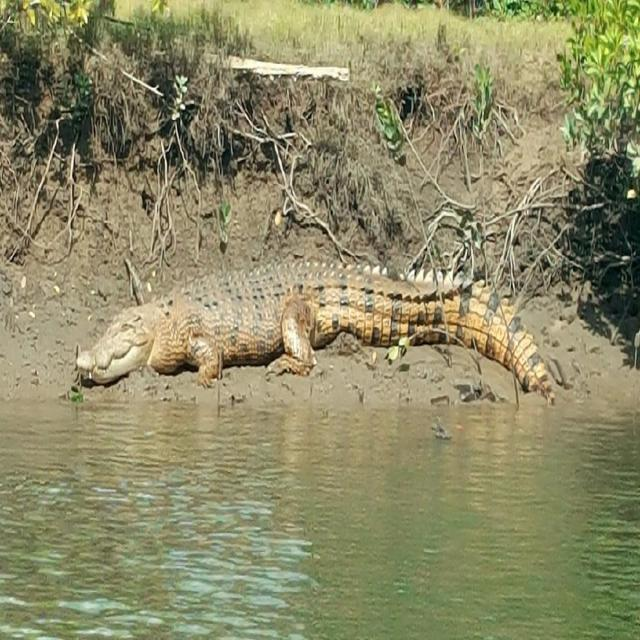crocodile: (73, 259, 558, 404)
